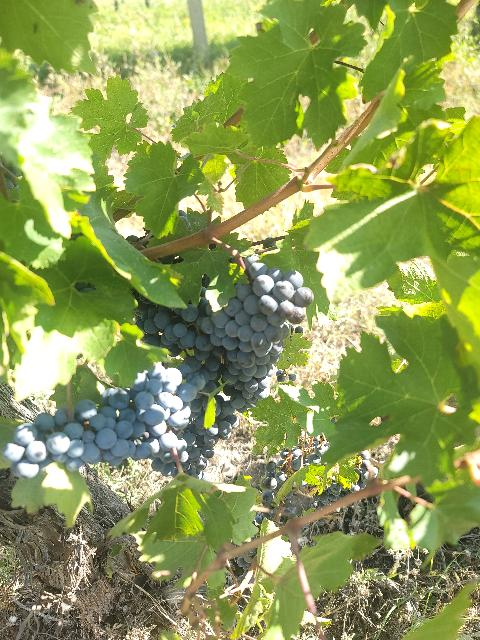grapes: (2, 364, 198, 479), (204, 255, 314, 409), (135, 295, 241, 392)
